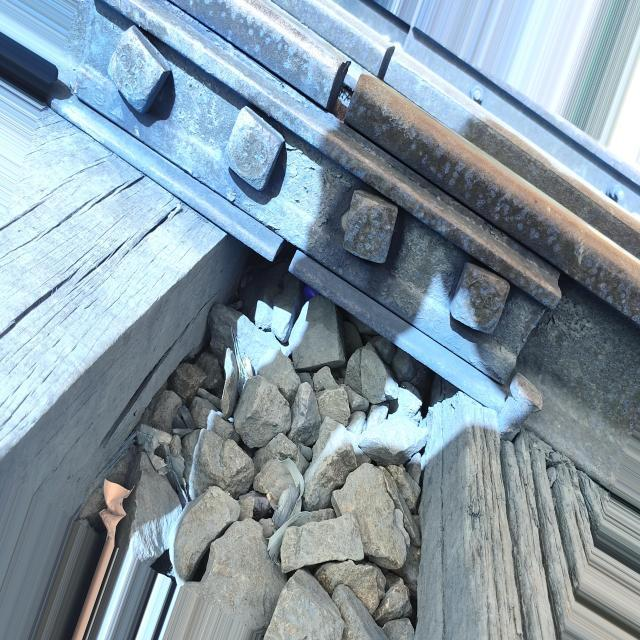Good Joint: (74, 0, 561, 394)
